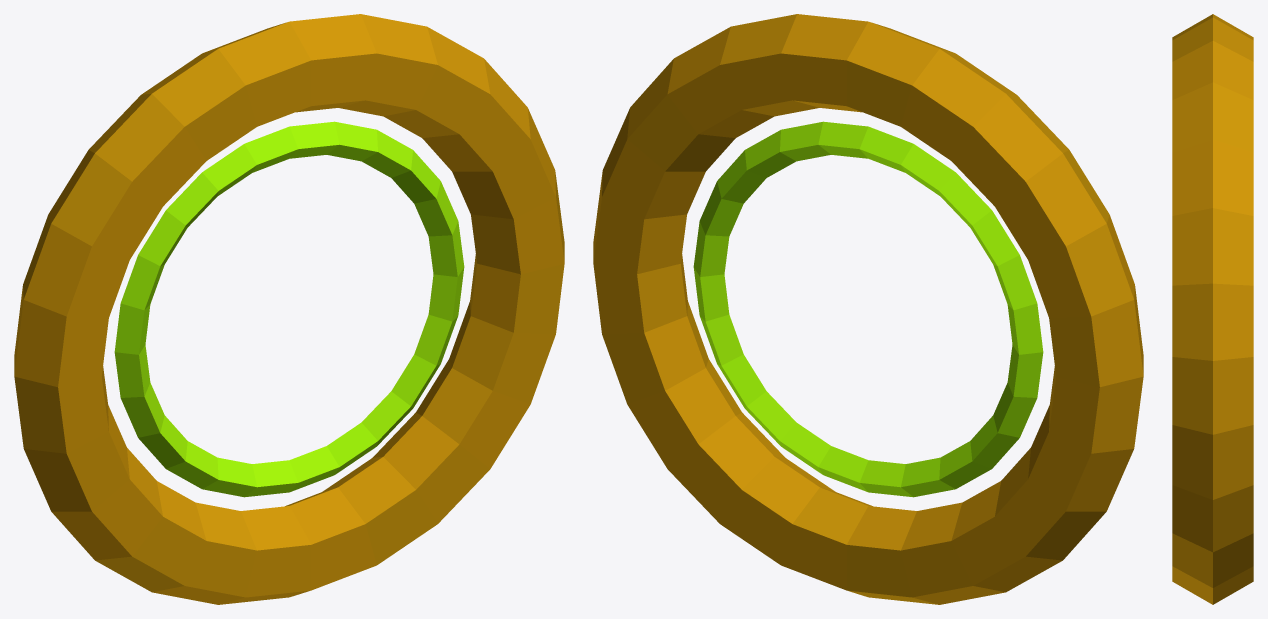
Rendered from pickup_shield.glb.
3 renders of one model, left to right at view 1: azimuth 30°, elevation 25°; view 2: azimuth 150°, elevation 25°; view 3: azimuth 270°, elevation 25°, orthographic. The views are drawn at different scales.
Visible parts, largest first — view 1: pickup_shield; view 2: pickup_shield; view 3: pickup_shield.
Part boxes in pixels (x1,y1,x2,y2): pickup_shield: (14, 14, 564, 604); pickup_shield: (593, 14, 1143, 604); pickup_shield: (1172, 14, 1253, 604).
Size of the model in its own units: 2.14 by 2.14 by 0.2944.
